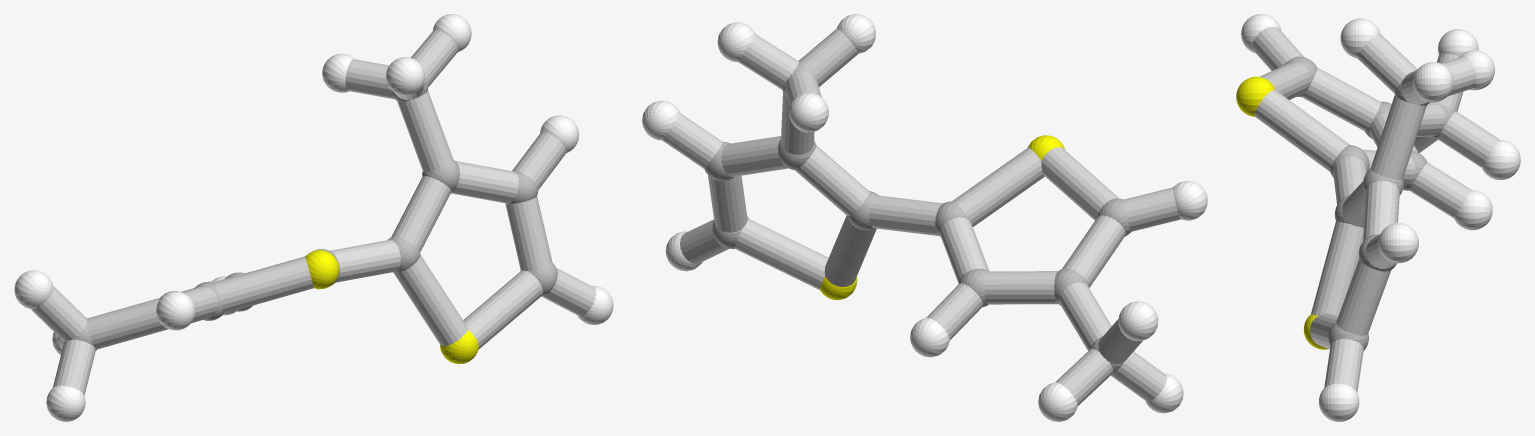
The model's file is Methylthiophene_Phi_5_Theta_280_Methylthiophene.glb.
3 views of the same model, side by side, from view 1: azimuth 30°, elevation 25°; view 2: azimuth 150°, elevation 25°; view 3: azimuth 270°, elevation 25° (orthographic). The views are drawn at different scales.
Parts seen in each view (by area): view 1: grp7965, grp3621, grp1, grp7241; view 2: grp7965, grp3621, grp1, grp7241; view 3: grp7965, grp3621, grp1, grp7241.
Part boxes in pixels (x1=…): grp7965: x1=31, y1=29, x2=596, y2=395; grp3621: x1=14, y1=14, x2=613, y2=421; grp1: x1=63, y1=79, x2=557, y2=350; grp7241: x1=305, y1=250, x2=478, y2=364; grp7965: x1=662, y1=28, x2=1180, y2=405; grp3621: x1=642, y1=14, x2=1207, y2=421; grp1: x1=704, y1=62, x2=1131, y2=372; grp7241: x1=820, y1=135, x2=1065, y2=300; grp7965: x1=1252, y1=26, x2=1499, y2=392; grp3621: x1=1241, y1=14, x2=1520, y2=421; grp1: x1=1283, y1=56, x2=1455, y2=350; grp7241: x1=1236, y1=76, x2=1328, y2=349.
Bounding box in the file's own units: 9.44 × 5.05 × 4.2.
